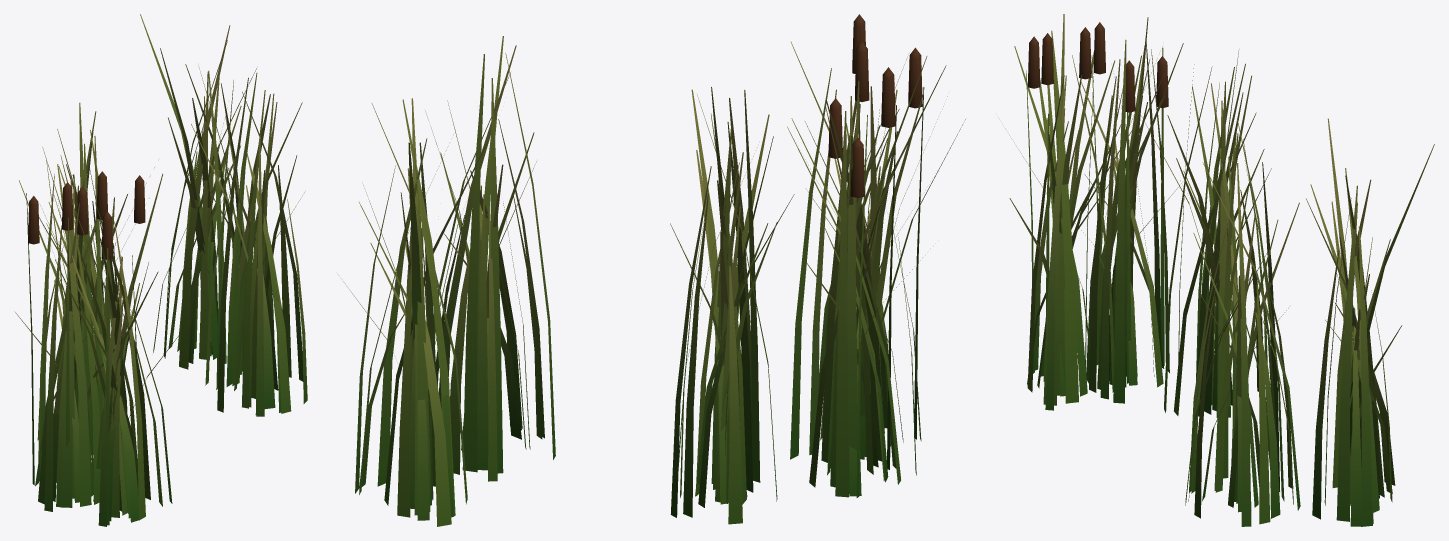
Rendered from reeds.glb.
3 renders of one model, left to right at view 1: azimuth 30°, elevation 25°; view 2: azimuth 150°, elevation 25°; view 3: azimuth 270°, elevation 25°, orthographic. The views are drawn at different scales.
Parts seen in each view (by area): view 1: Plant-reeds; view 2: Plant-reeds; view 3: Plant-reeds.
Boxes of the visible parts, x1,y1,x2,y2 form: Plant-reeds: [14, 14, 307, 526]; Plant-reeds: [343, 14, 965, 526]; Plant-reeds: [1005, 14, 1434, 526].
Size of the model in its own units: 1.51 by 1.38 by 1.53.
